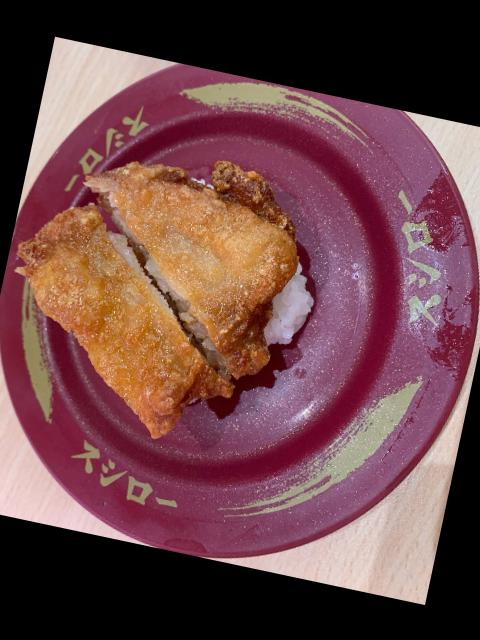janred: (0, 40, 458, 590)
